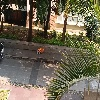fire: (38, 46, 46, 53)
